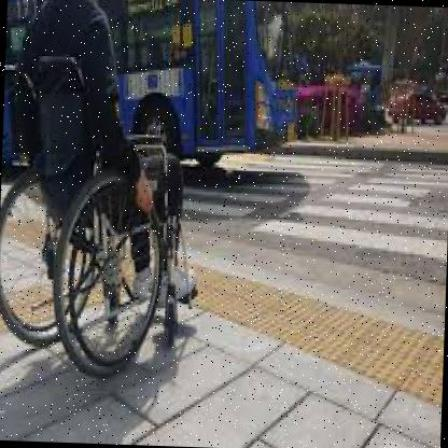wheel: (0, 0, 212, 383)
